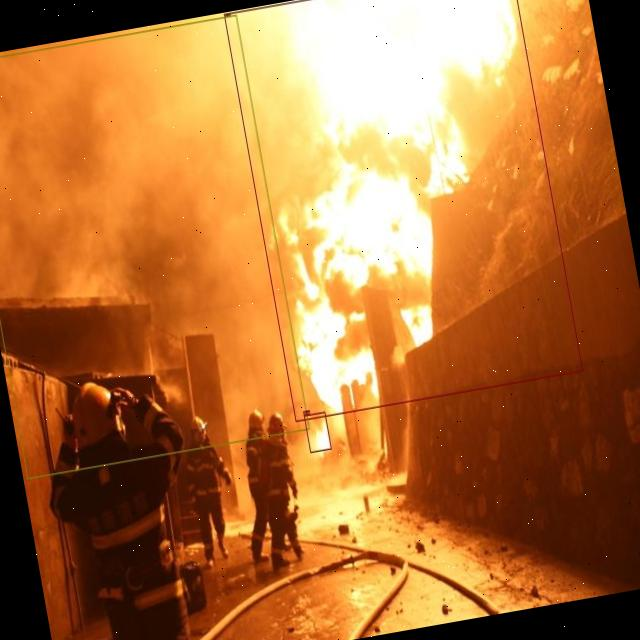fire: (223, 0, 582, 421), (304, 412, 332, 452)
smoke: (0, 14, 309, 478)
